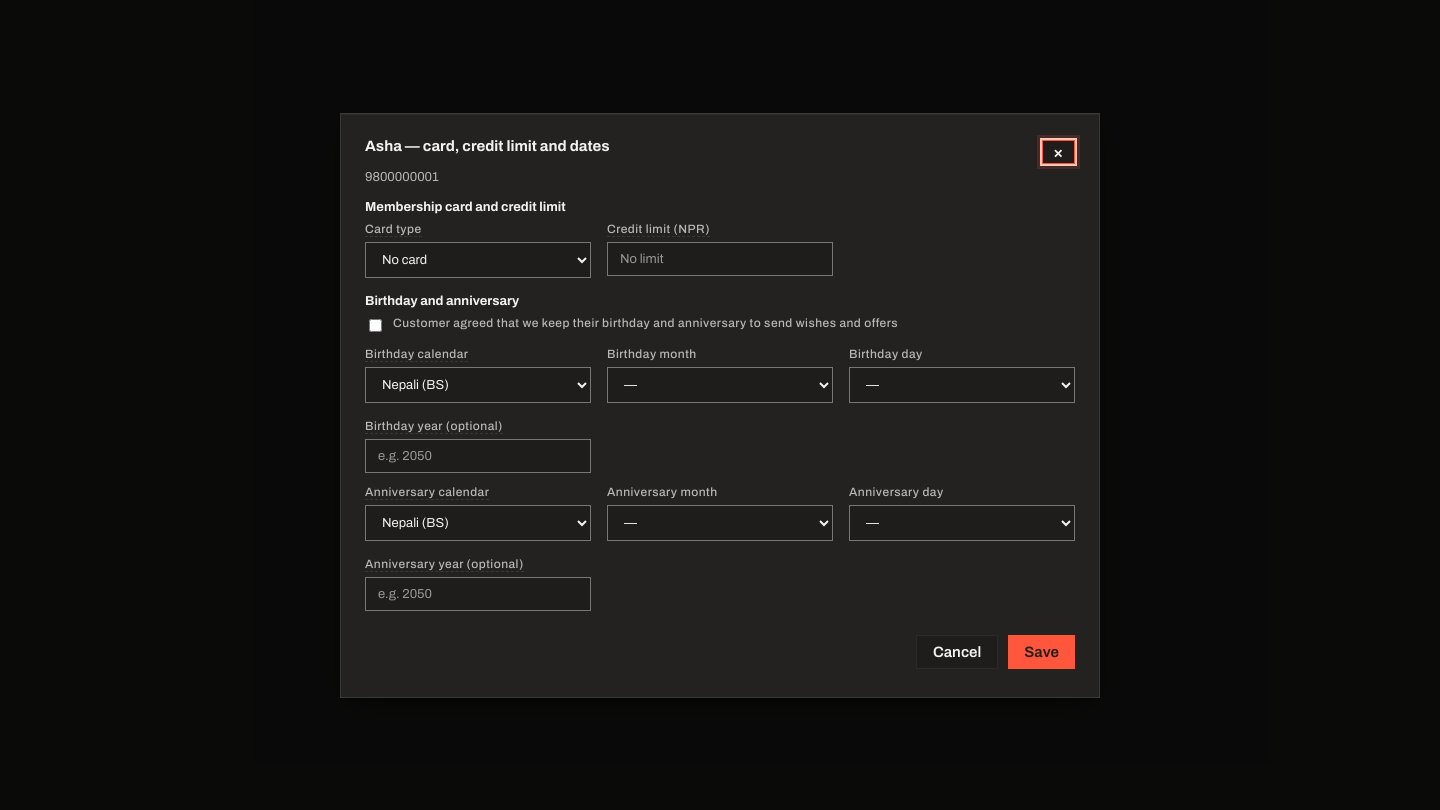
a save that changes no row says nothing was saved
Type "100" into the field labelled "Credit limit (NPR)" at (720, 258), box [607,242,833,276]
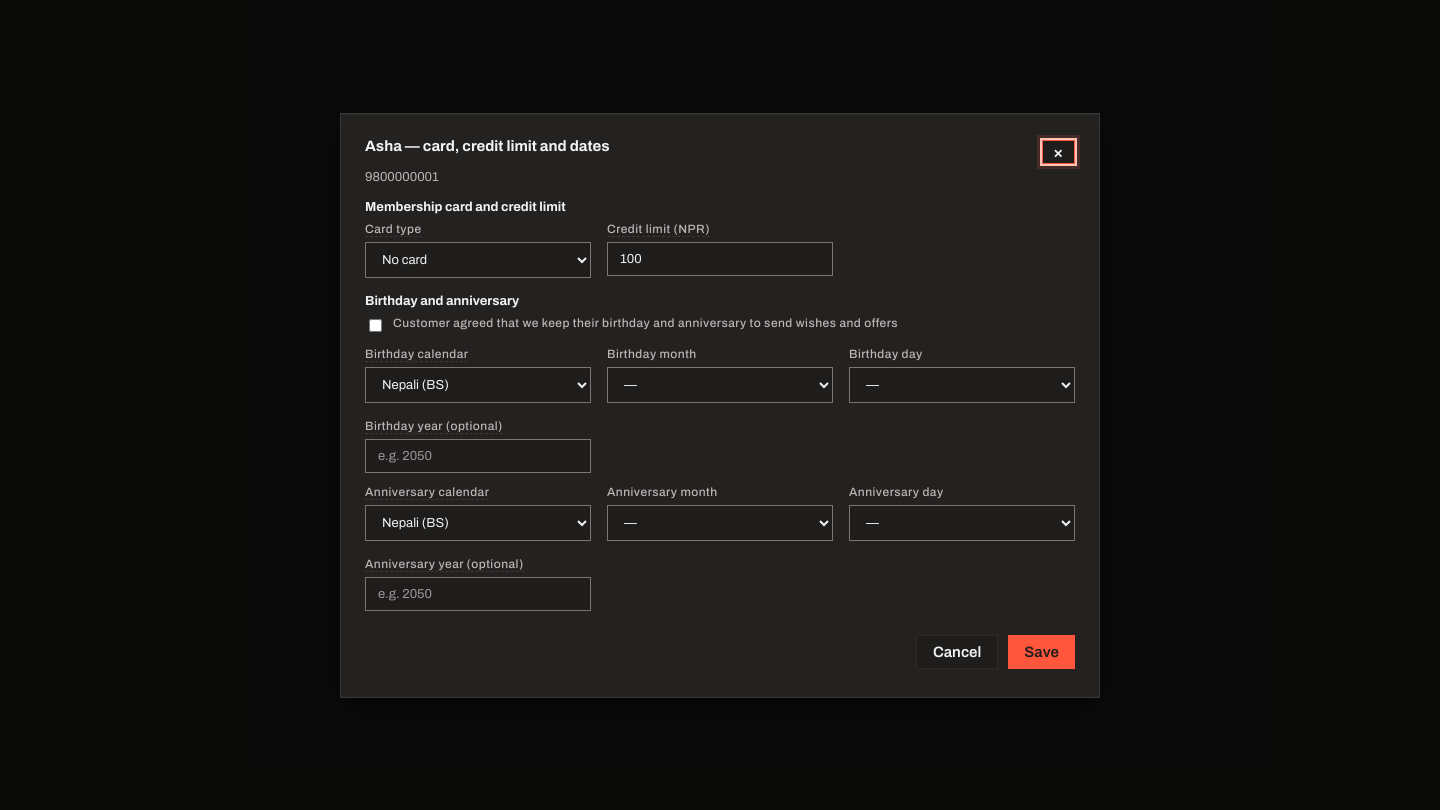
Click the button "Save" at (1042, 652), box [1008,634,1075,668]
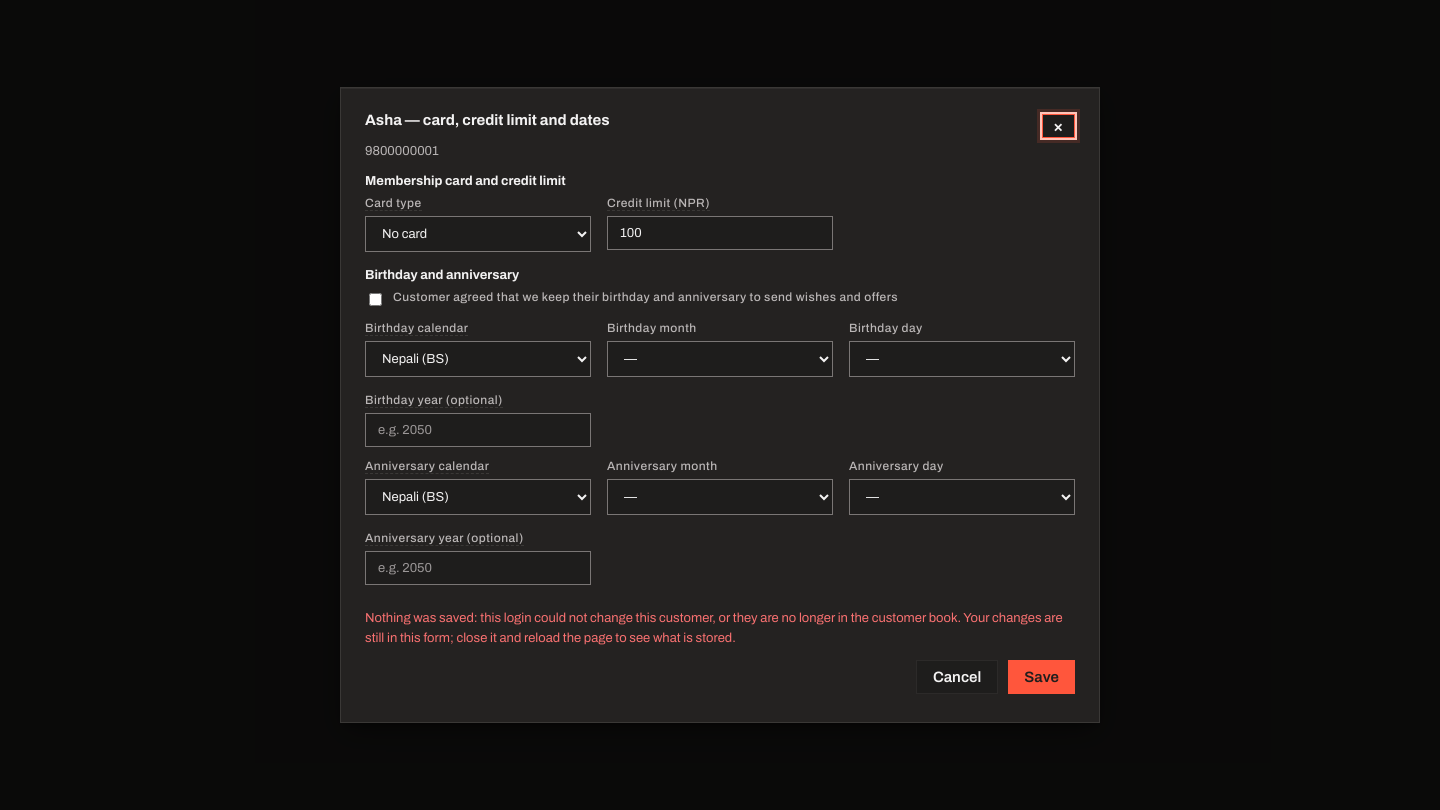
Now the text "Nothing was saved: this login could not change this customer" is shown, box [365,611,1063,644]
